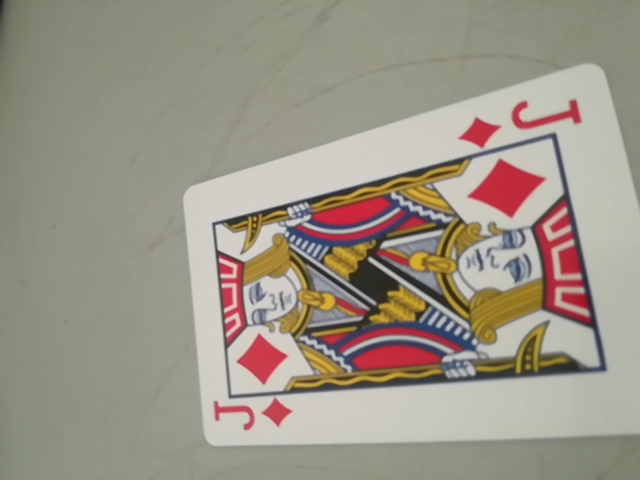fk j: (458, 92, 593, 153), (209, 391, 296, 443)
